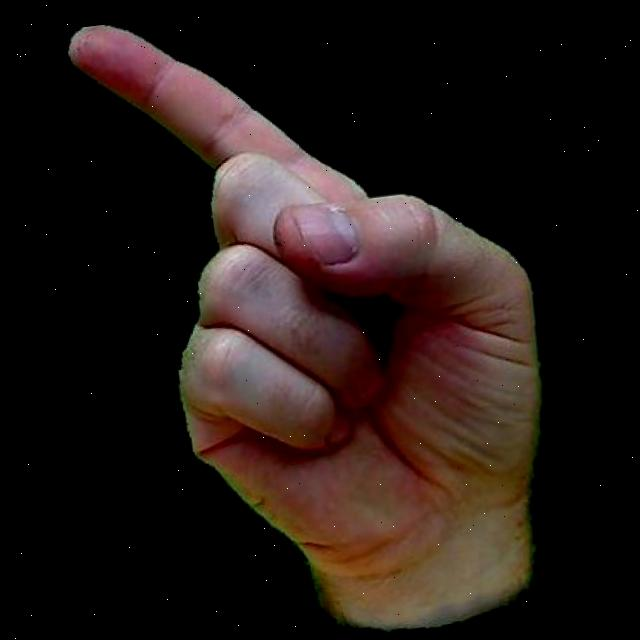z: (52, 0, 573, 640)
